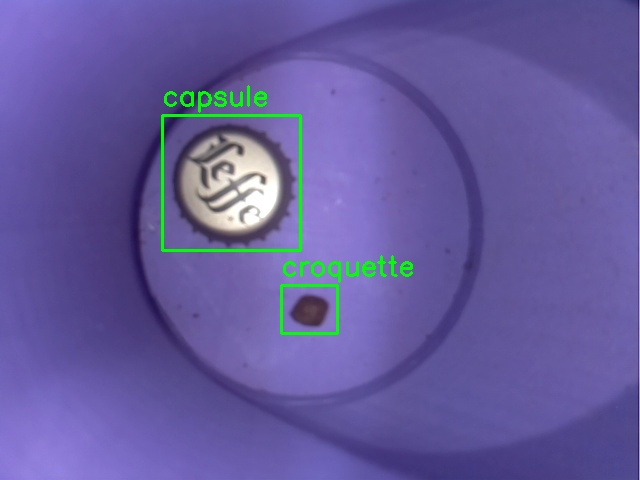capsule: (162, 115, 300, 250)
croquette: (281, 285, 337, 333)
